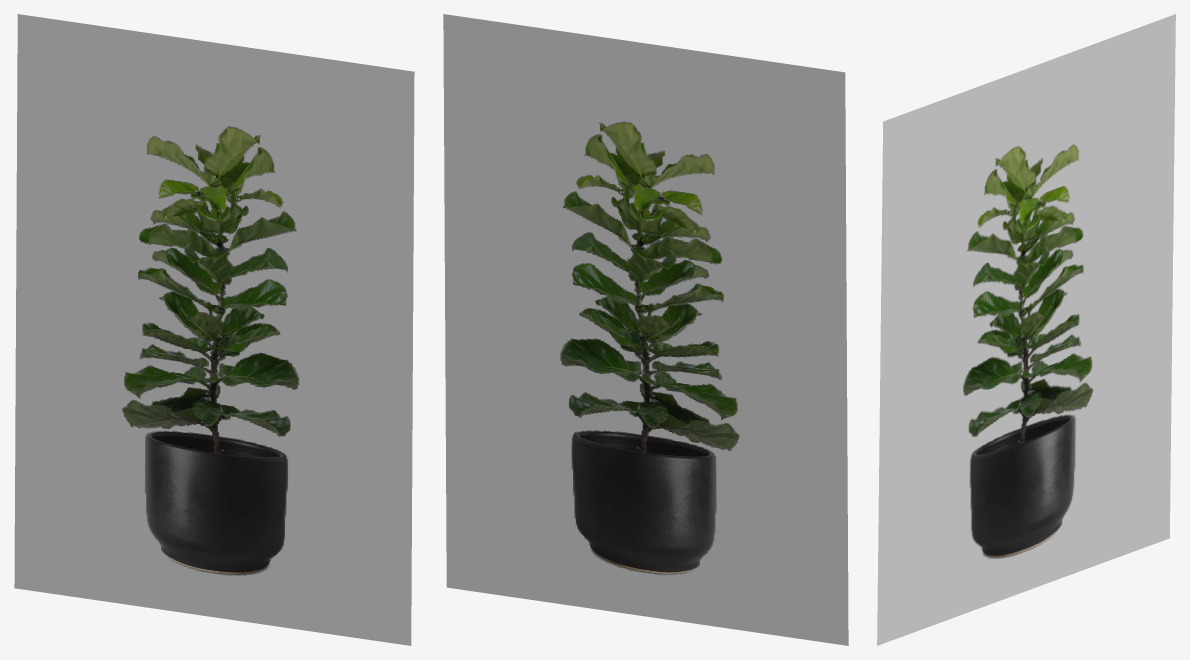
The model's file is augs1.glb.
The picture shows the model from 3 angles, left to right: view 1: azimuth 30°, elevation 25°; view 2: azimuth 210°, elevation 25°; view 3: azimuth 270°, elevation 25°; orthographic projection. The views are drawn at different scales.
Visible parts, largest first — view 1: fiddle-leaf-fig-plant-pot; view 2: fiddle-leaf-fig-plant-pot; view 3: fiddle-leaf-fig-plant-pot.
Part boxes in pixels (box(x1,y1,x2,y2)): fiddle-leaf-fig-plant-pot: box(14, 14, 414, 645); fiddle-leaf-fig-plant-pot: box(443, 14, 848, 645); fiddle-leaf-fig-plant-pot: box(877, 14, 1175, 645).
Bounding box in the file's own units: 0.8644 × 1.92 × 0.9873.
Materials: 1 (1 with a texture image).
